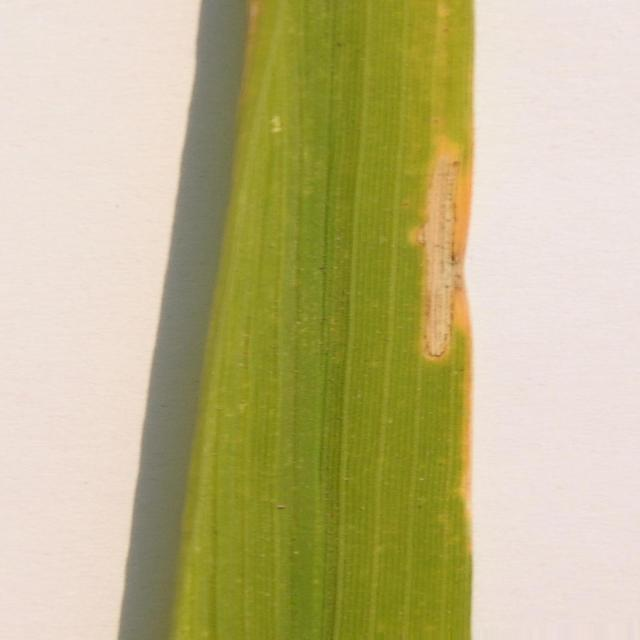Bacterial_Leaf_Blight: (411, 138, 471, 549)
